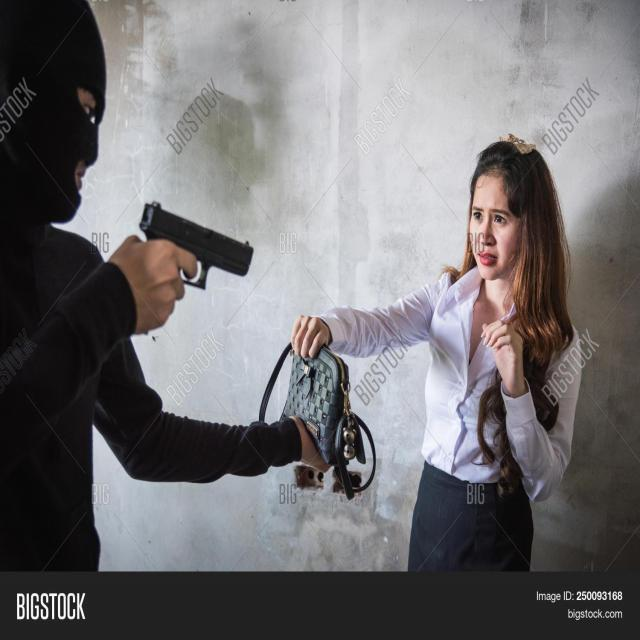gun: (140, 201, 256, 317)
